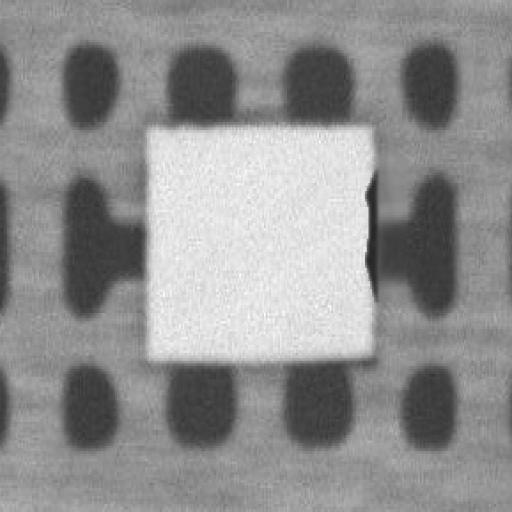DIE_BROKEN: (358, 170, 377, 297)
